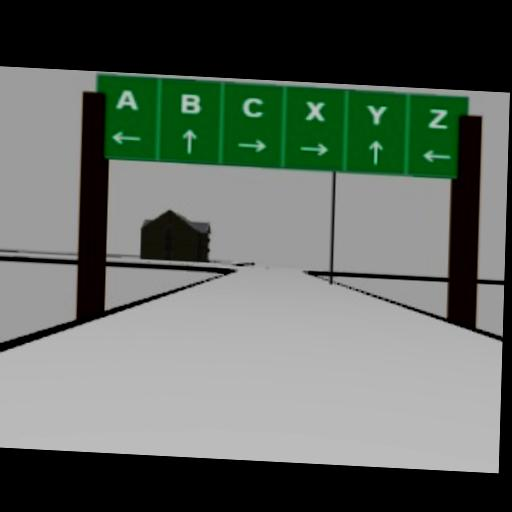A: (115, 86, 139, 109)
B: (181, 92, 203, 114)
C: (241, 94, 264, 116)
Left: (420, 146, 452, 162), (111, 129, 141, 145)
Right: (236, 136, 268, 153), (298, 139, 330, 156)
Straight: (179, 126, 197, 152), (367, 137, 383, 164)
X: (304, 99, 326, 122)
Y: (367, 103, 387, 124)
Z: (428, 106, 447, 127)
